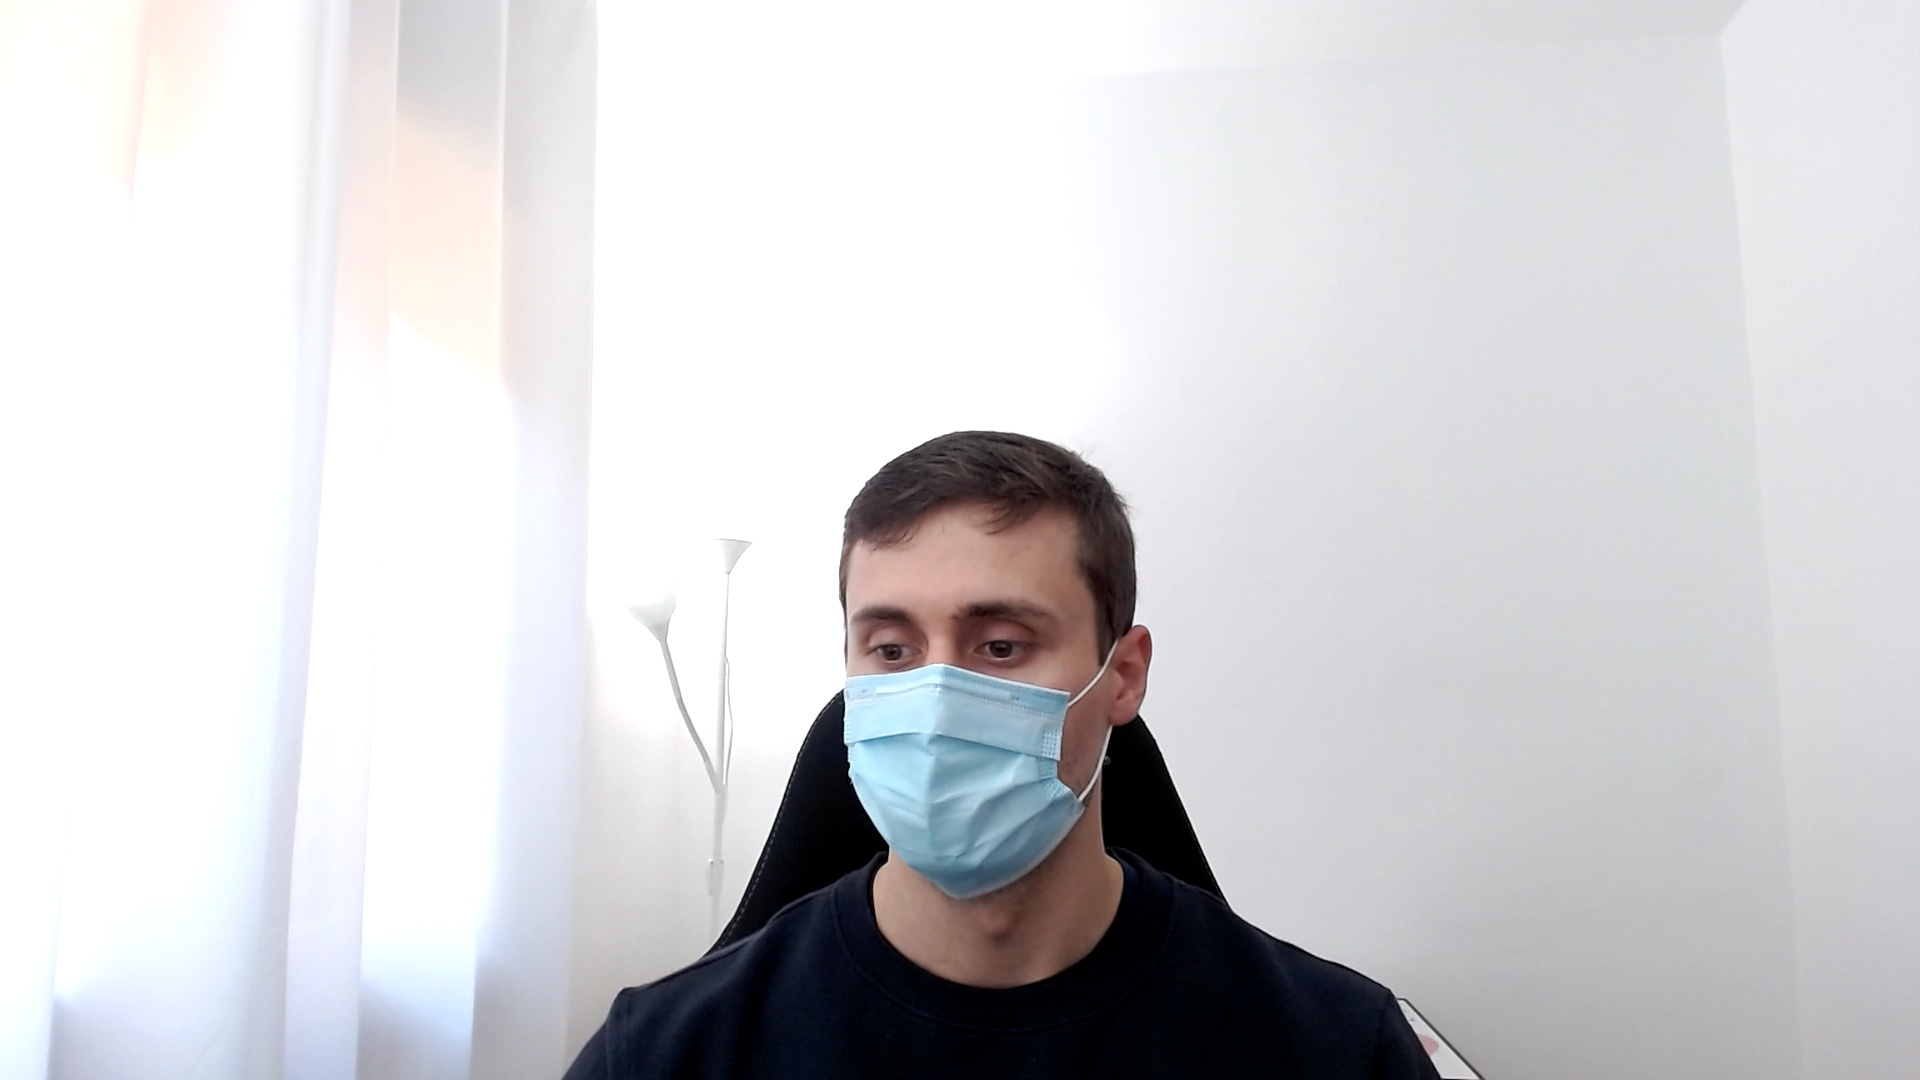Mask: (839, 431, 1153, 899)
